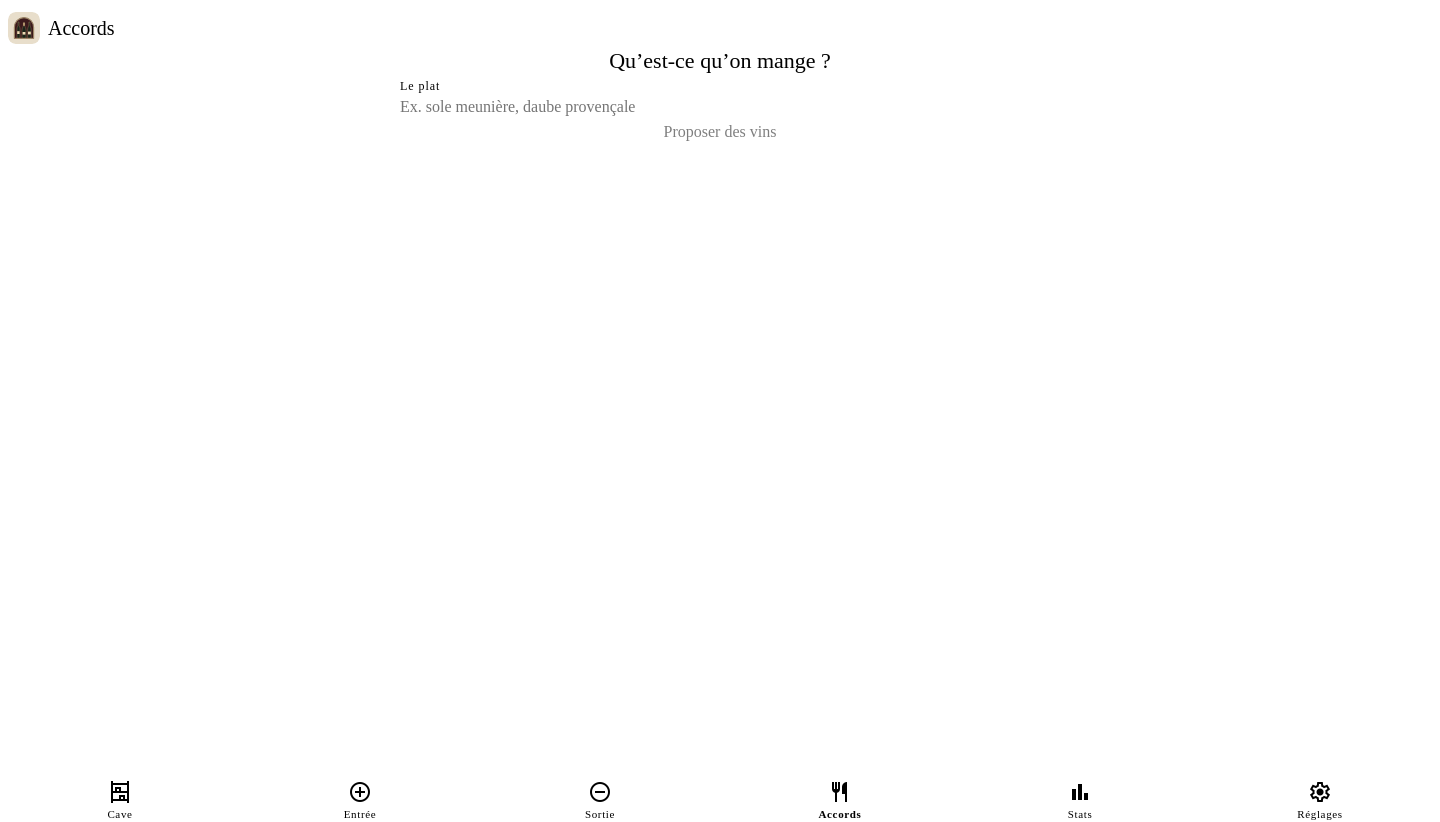
Scenario: aucun vin adapté : message
This screenshot has width=1440, height=822.
Type "Sole" into the field labelled "Le plat".
click(720, 107); type("Sole")  # box [400, 95, 1040, 119]
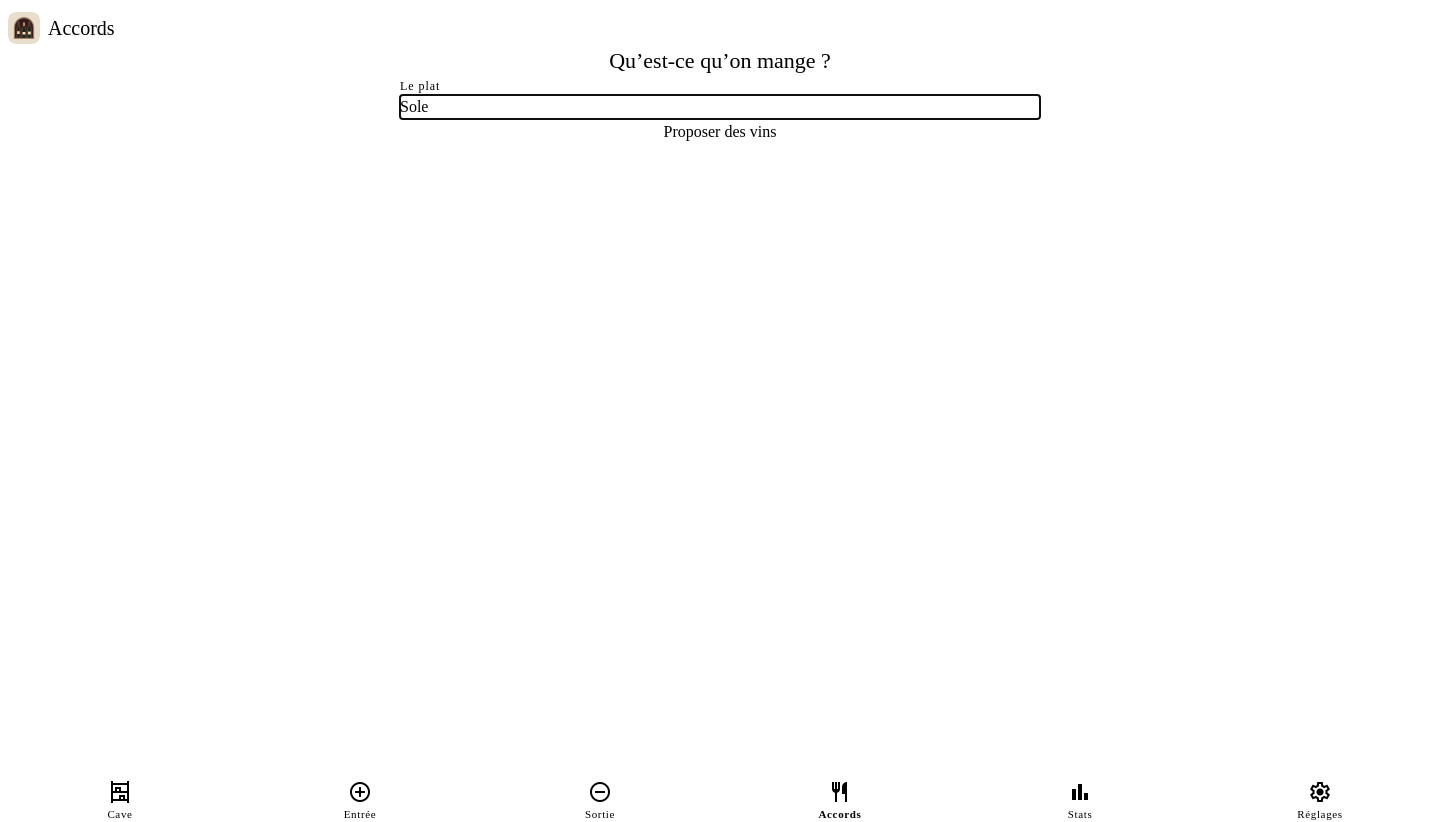
Click the button "Proposer des vins".
click(720, 132)  # box [400, 119, 1040, 145]
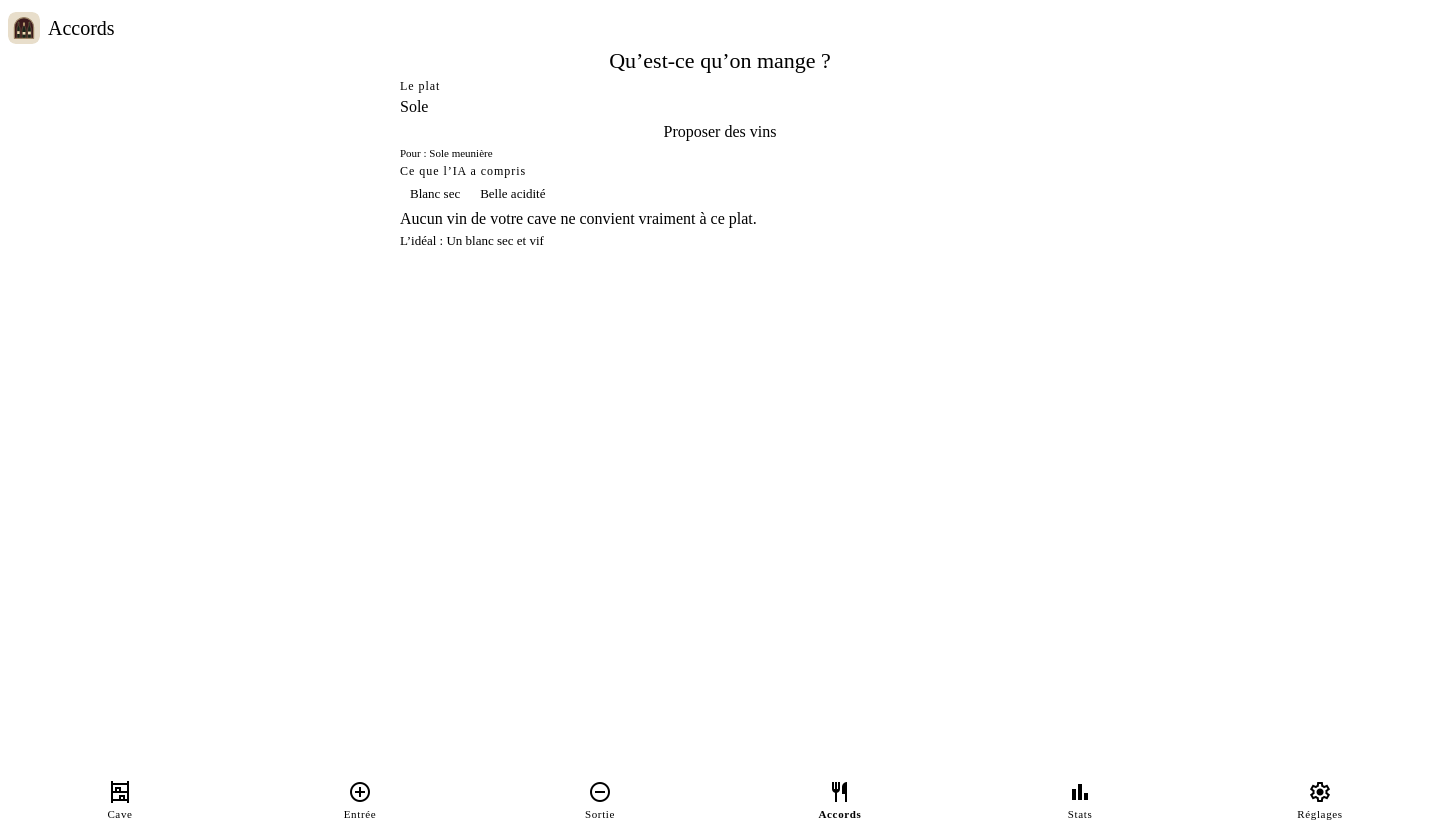
Now the text "L’idéal : Un blanc sec et vif" is shown, box [400, 233, 544, 248]
